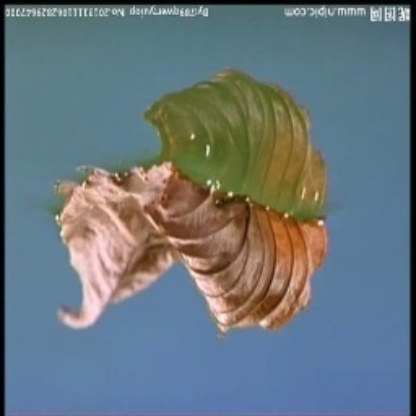leaf: (46, 163, 330, 338)
